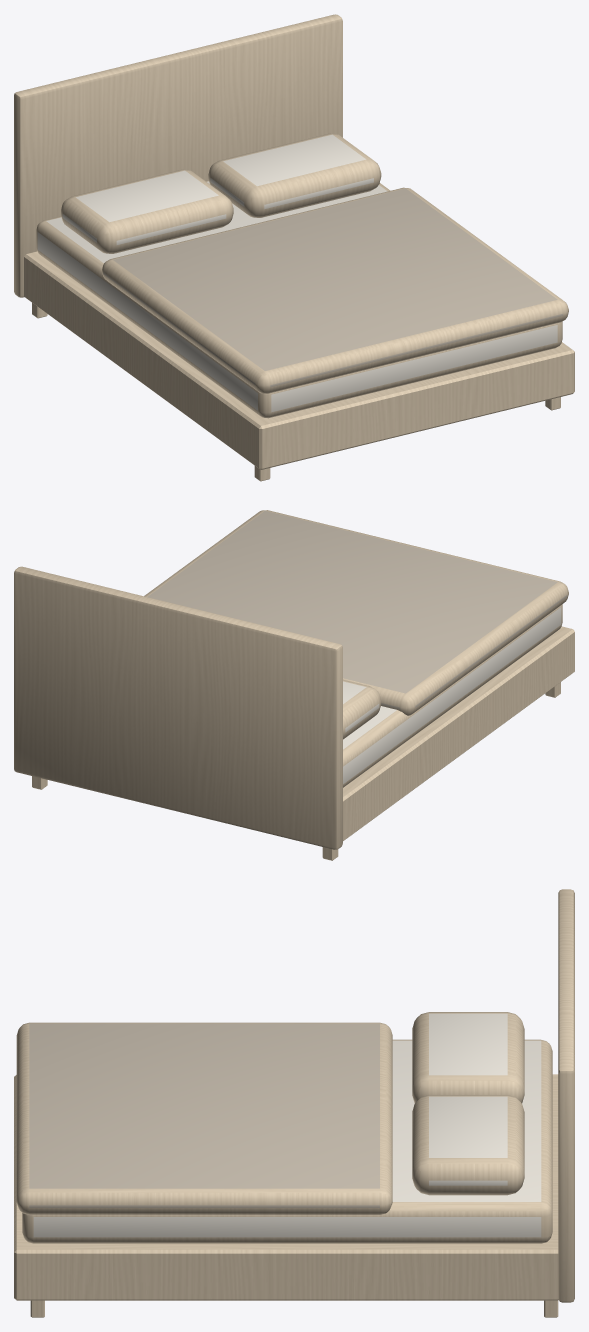
Rendered from bed.glb.
3 renders of one model, top to bottom at view 1: azimuth 30°, elevation 25°; view 2: azimuth 150°, elevation 25°; view 3: azimuth 270°, elevation 25°, orthographic. The views are drawn at different scales.
Parts seen in each view (by area): view 1: bed; view 2: bed; view 3: bed.
Boxes of the visible parts, <box> form: bed: <box>14,14,574,481</box>; bed: <box>14,510,574,860</box>; bed: <box>14,889,574,1317</box>.
Size of the model in its own units: 1.54 by 1 by 2.
3 materials, 1 textured.
